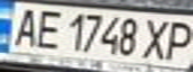1: (60, 10, 87, 52)
4: (100, 12, 124, 56)
7: (78, 11, 103, 54)
8: (115, 14, 145, 58)
A: (6, 5, 42, 48)
E: (30, 6, 66, 51)
P: (160, 18, 193, 62)
X: (139, 16, 175, 61)
